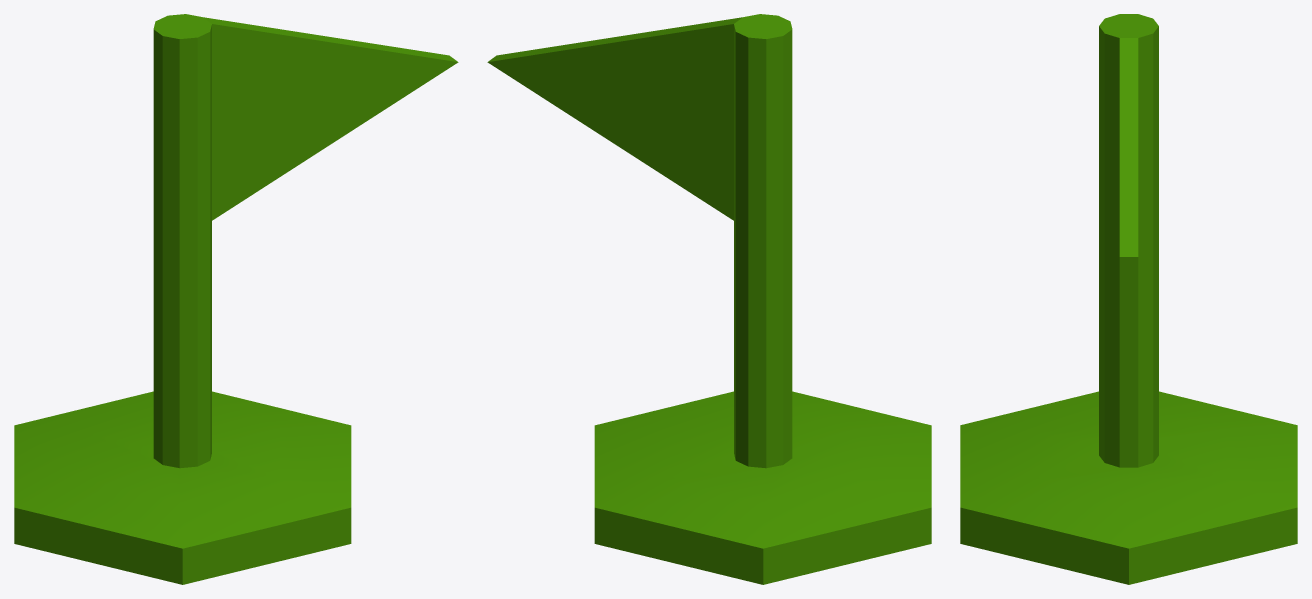
The model's file is Boardgame_Flag_Token_Green_01.fbx.
3 views of the same model, side by side, from view 1: azimuth 30°, elevation 25°; view 2: azimuth 150°, elevation 25°; view 3: azimuth 270°, elevation 25° (orthographic).
Parts seen in each view (by area): view 1: Model; view 2: Model; view 3: Model.
Part boxes in pixels (box(x1,y1,x2,y2)): Model: box(14, 14, 458, 584); Model: box(487, 14, 931, 584); Model: box(960, 14, 1297, 584).
Size of the model in its own units: 244 by 253 by 162.
